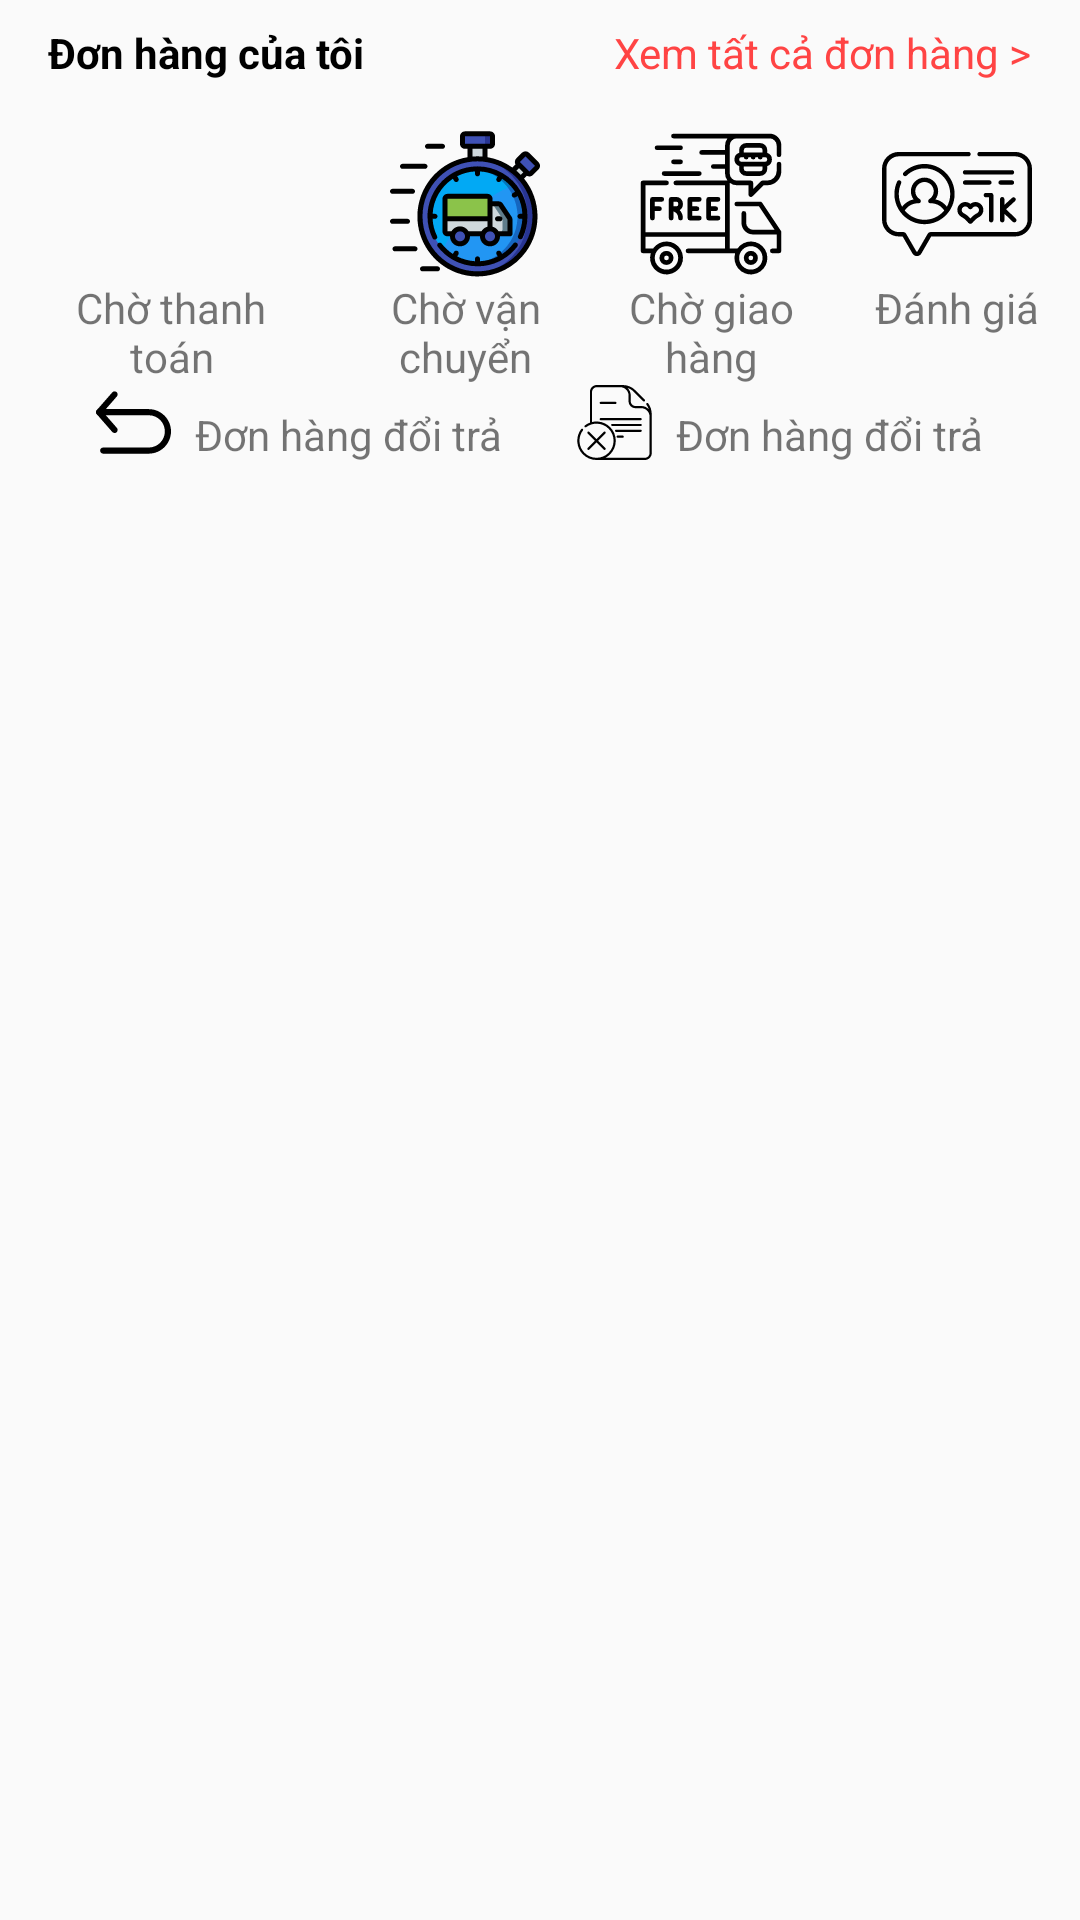

Named icons in this screenshot (1080*1920) and their centers, point (x, y):
cancel orther: point (614, 422)
cart delivery: point (711, 204)
orther comeback: point (133, 422)
time delivery: point (465, 204)
